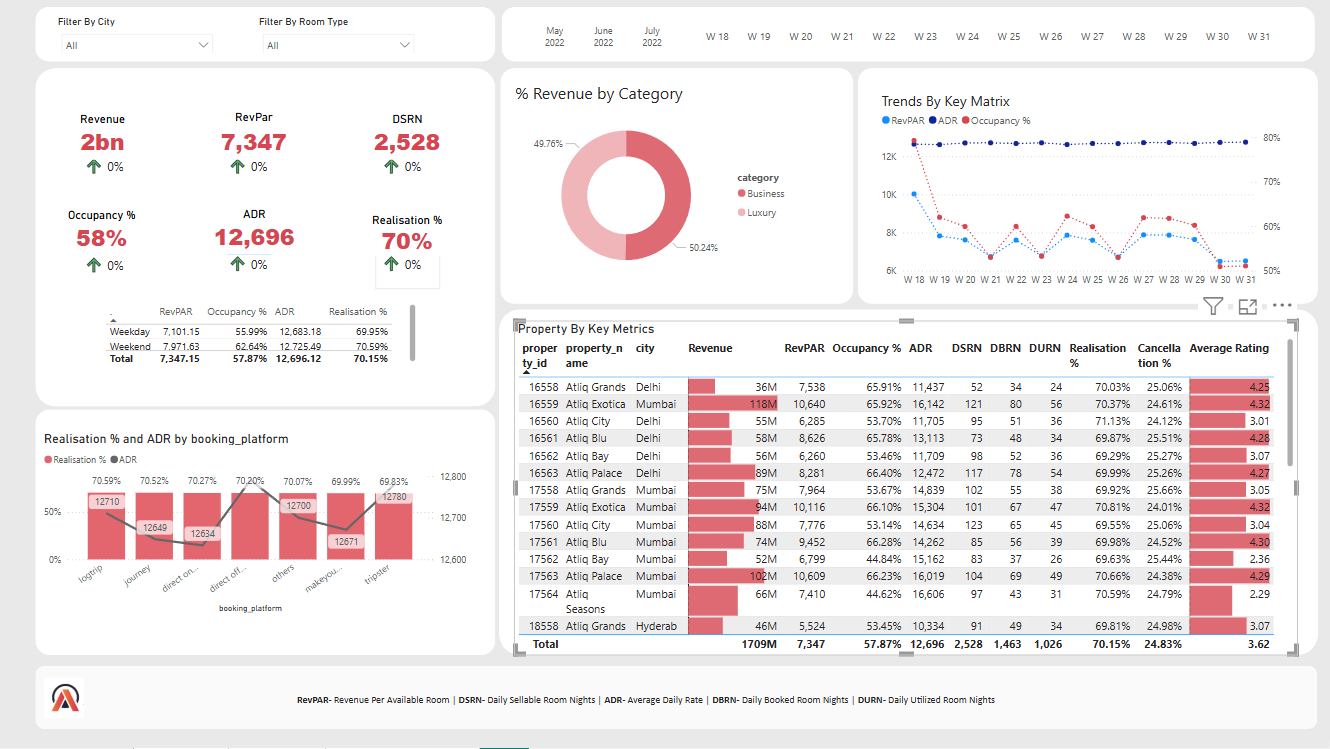

What the dashboard file says about the page in this screenshot:
{"tool":"powerbi","page":{"name":"Page 2","canvas":[1800,1100],"ordinal":1},"visuals":[{"type":"shape","box":[75.3,648.4,613.6,328],"z":0},{"type":"shape","box":[1171.3,193,613.6,314.5],"z":1000},{"type":"shape","box":[694.7,193,470.8,314.5],"z":2000},{"type":"shape","box":[75.3,193,613.6,451.5],"z":3000},{"type":"shape","box":[75.3,111.9,613.6,73.3],"z":4000},{"type":"shape","box":[696.6,111.9,1084.5,73.3],"z":5000},{"type":"slicer","fields":{"Values":["dim_date.mmm yy"]},"box":[710.1,119.6,243.1,61.7],"z":6000},{"type":"slicer","fields":{"Values":["dim_date.week no"]},"box":[932,119.6,825.9,61.7],"z":7000},{"type":"donutChart","title":"% Revenue by Category","fields":{"Category":["dim_hotel.category"],"Y":["ket measures.Occupancy %"]},"box":[710.1,212.3,380.1,281.7],"z":8000},{"type":"slicer","title":"Filter By Room Type","fields":{"Values":["dim_rooms.room_class"]},"box":[368.6,122.5,221.9,50.2],"z":9000},{"type":"slicer","title":"Filter By City","fields":{"Values":["dim_hotel.city"]},"box":[100.3,122.5,221.9,50.2],"z":10000},{"type":"lineChart","title":"Trends By Key Matrix","fields":{"Y":["ket measures.RevPAR","ket measures.ADR"],"Category":["dim_date.mmm yy.Variation.Date Hierarchy.Month","dim_date.week no"],"Y2":["ket measures.Occupancy %"]},"box":[1198.3,223.8,542.2,270.2],"z":11000},{"type":"lineStackedColumnComboChart","fields":{"Category":["fact_bookings.booking_platform"],"Y":["ket measures.Realisation %"],"Y2":["ket measures.ADR"]},"box":[81,677.3,573.1,248.9],"z":12000},{"type":"tableEx","fields":{"Values":["dim_date.day_type","ket measures.RevPAR","ket measures.Occupancy %","ket measures.ADR","ket measures.Realisation %"]},"box":[164,503.6,424.5,90.7],"z":13000},{"type":"actionButton","box":[0,0,100,40],"z":14000},{"type":"tableEx","fields":{"Values":["ket measures.Revenue WoW change %"]},"box":[132.1,278.3,86.8,81],"z":15000},{"type":"card","title":"Revenue","fields":{"Values":["ket measures.Revenue"]},"box":[92.7,251,142.8,63.7],"z":16000},{"type":"tableEx","fields":{"Values":["ket measures.Revenue WoW change %"]},"box":[323.3,278.3,86.8,81],"z":17000},{"type":"card","title":"RevPar","fields":{"Values":["ket measures.RevPAR"]},"box":[295.3,249.6,142.8,65.6],"z":18000},{"type":"tableEx","fields":{"Values":["ket measures.Revenue WoW change %"]},"box":[527.5,279,86.8,81],"z":19000},{"type":"card","title":"DSRN","fields":{"Values":["ket measures.DSRN"]},"box":[497.3,250.9,148.6,63.7],"z":20000},{"type":"tableEx","fields":{"Values":["ket measures.Revenue WoW change %"]},"box":[132.1,409.5,86.8,81],"z":21000},{"type":"card","title":"Occupancy %","fields":{"Values":["ket measures.Occupancy %"]},"box":[93.7,380,140.9,63.7],"z":22000},{"type":"tableEx","fields":{"Values":["ket measures.Revenue WoW change %"]},"box":[323.3,407.6,86.8,81],"z":23000},{"type":"card","title":"ADR","fields":{"Values":["ket measures.ADR"]},"box":[296.3,378.7,140.9,63.7],"z":24000},{"type":"tableEx","fields":{"Values":["ket measures.Revenue WoW change %"]},"box":[528.1,407.9,86.8,81],"z":25000},{"type":"card","title":"Realisation %","fields":{"Values":["ket measures.Realisation %"]},"box":[497.3,386.7,148.6,57.9],"z":26000},{"type":"shape","box":[692.8,515.2,1092.2,461.2],"z":27000},{"type":"tableEx","title":"Property By Key Metrics","fields":{"Values":["dim_hotel.property_id","dim_hotel.property_name","dim_hotel.city","ket measures.Revenue","ket measures.RevPAR","ket measures.Occupancy %","ket measures.ADR","ket measures.DSNR","ket measures.DBRN","ket measures.DURN","ket measures.Realisation %","ket measures.Cancellation %"]},"box":[714,530,1044,446],"z":28000},{"type":"shape","box":[75.3,989.9,1709.7,84.9],"z":29000},{"type":"image","box":[81,989.9,63.7,84.9],"z":30000},{"type":"textbox","box":[412,1004,976,56],"z":31000}]}

Visuals, with their boxes on the page's 1800x1100 design canvas (x1, y1, x2, y2). These are canvas units, not pixel positions in the 1330x749 screenshot, which may show the page scaled, cropped or inside an application window:
shape: (left=75, top=648, right=689, bottom=976)
shape: (left=1171, top=193, right=1785, bottom=508)
shape: (left=695, top=193, right=1166, bottom=508)
shape: (left=75, top=193, right=689, bottom=644)
shape: (left=75, top=112, right=689, bottom=185)
shape: (left=697, top=112, right=1781, bottom=185)
slicer - dim_date.mmm yy: (left=710, top=120, right=953, bottom=181)
slicer - dim_date.week no: (left=932, top=120, right=1758, bottom=181)
"% Revenue by Category" donutChart: (left=710, top=212, right=1090, bottom=494)
"Filter By Room Type" slicer: (left=369, top=122, right=590, bottom=173)
"Filter By City" slicer: (left=100, top=122, right=322, bottom=173)
"Trends By Key Matrix" lineChart: (left=1198, top=224, right=1740, bottom=494)
lineStackedColumnComboChart - fact_bookings.booking_platform x ket measures.Realisation %: (left=81, top=677, right=654, bottom=926)
tableEx - dim_date.day_type x ket measures.RevPAR: (left=164, top=504, right=588, bottom=594)
actionButton: (left=0, top=0, right=100, bottom=40)
tableEx - ket measures.Revenue WoW change %: (left=132, top=278, right=219, bottom=359)
"Revenue" card: (left=93, top=251, right=236, bottom=315)
tableEx - ket measures.Revenue WoW change %: (left=323, top=278, right=410, bottom=359)
"RevPar" card: (left=295, top=250, right=438, bottom=315)
tableEx - ket measures.Revenue WoW change %: (left=528, top=279, right=614, bottom=360)
"DSRN" card: (left=497, top=251, right=646, bottom=315)
tableEx - ket measures.Revenue WoW change %: (left=132, top=410, right=219, bottom=490)
"Occupancy %" card: (left=94, top=380, right=235, bottom=444)
tableEx - ket measures.Revenue WoW change %: (left=323, top=408, right=410, bottom=489)
"ADR" card: (left=296, top=379, right=437, bottom=442)
tableEx - ket measures.Revenue WoW change %: (left=528, top=408, right=615, bottom=489)
"Realisation %" card: (left=497, top=387, right=646, bottom=445)
shape: (left=693, top=515, right=1785, bottom=976)
"Property By Key Metrics" tableEx: (left=714, top=530, right=1758, bottom=976)
shape: (left=75, top=990, right=1785, bottom=1075)
image: (left=81, top=990, right=145, bottom=1075)
textbox: (left=412, top=1004, right=1388, bottom=1060)
